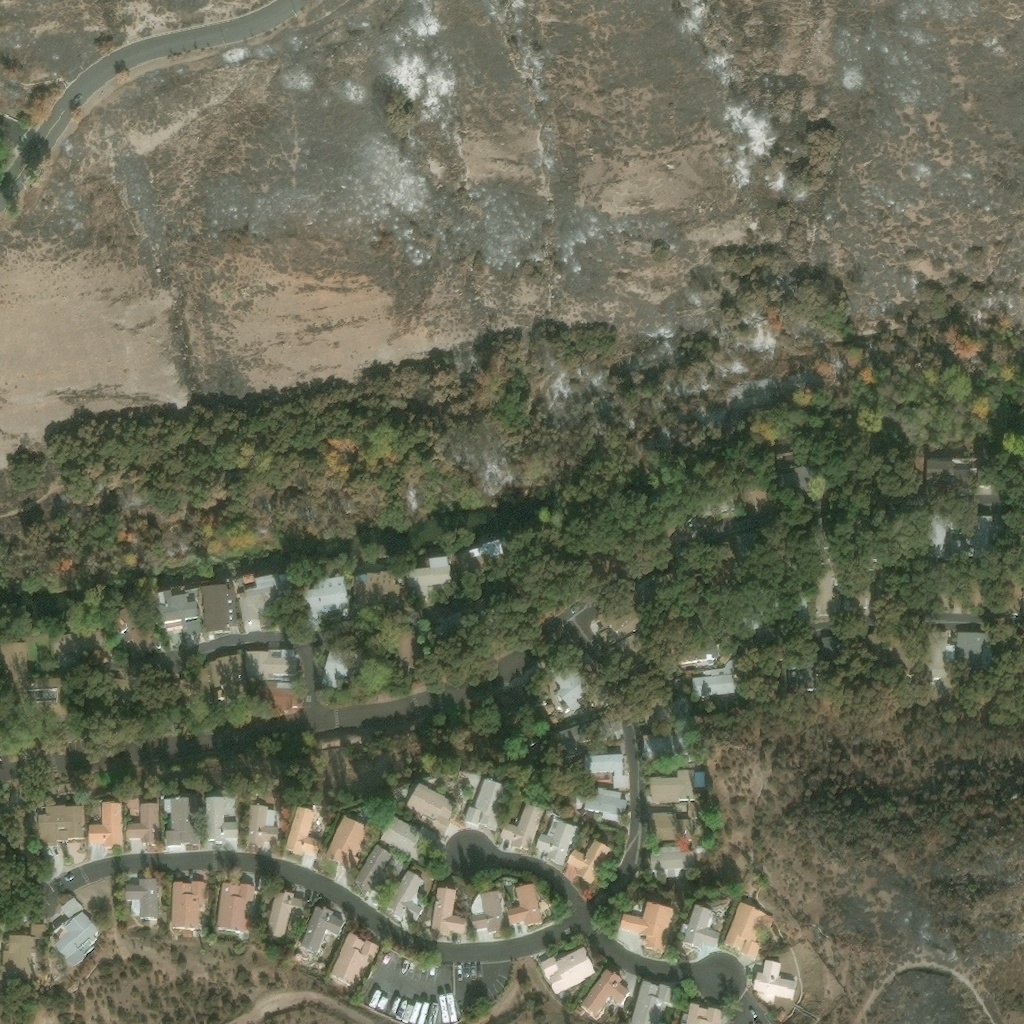0 no-damage: (48, 624, 113, 676), (550, 661, 607, 717), (327, 934, 381, 993), (722, 904, 777, 960), (620, 905, 675, 957), (405, 785, 457, 839), (539, 948, 596, 996), (237, 575, 281, 637), (51, 913, 98, 971), (302, 577, 350, 633), (405, 559, 454, 612), (464, 780, 509, 836), (581, 970, 631, 1019), (298, 909, 345, 959), (112, 604, 157, 656), (324, 820, 367, 874), (199, 654, 248, 701), (381, 819, 432, 864), (501, 806, 544, 857), (266, 890, 307, 942), (243, 650, 301, 686), (598, 603, 642, 650), (537, 820, 579, 869), (639, 729, 696, 765), (384, 873, 425, 923), (568, 843, 612, 888), (159, 593, 203, 638), (37, 807, 85, 848), (650, 771, 706, 806), (752, 960, 798, 1002), (680, 907, 721, 953), (353, 574, 403, 611), (692, 662, 738, 702), (353, 848, 392, 895), (218, 885, 255, 934), (320, 649, 358, 694), (581, 789, 627, 826), (172, 883, 206, 933), (202, 586, 236, 636), (463, 541, 510, 577), (651, 845, 697, 881), (632, 982, 672, 1023), (507, 886, 544, 930), (0, 645, 28, 703), (584, 756, 630, 791), (285, 810, 317, 860), (432, 890, 466, 936), (205, 798, 238, 845), (89, 805, 123, 850), (736, 478, 772, 518), (472, 895, 506, 937), (3, 937, 36, 980), (126, 881, 161, 921), (246, 810, 280, 851), (165, 801, 194, 849), (128, 805, 161, 847), (676, 640, 718, 672), (929, 517, 958, 562), (264, 683, 307, 713), (650, 814, 691, 843), (787, 465, 820, 500), (955, 634, 993, 663), (551, 727, 587, 757), (967, 518, 992, 557), (32, 677, 62, 709), (596, 715, 626, 744), (682, 1004, 727, 1023), (106, 681, 140, 701), (61, 898, 85, 920), (927, 460, 954, 479), (951, 470, 971, 487), (30, 926, 46, 937), (242, 577, 255, 587), (946, 647, 957, 658), (577, 1007, 586, 1016)
